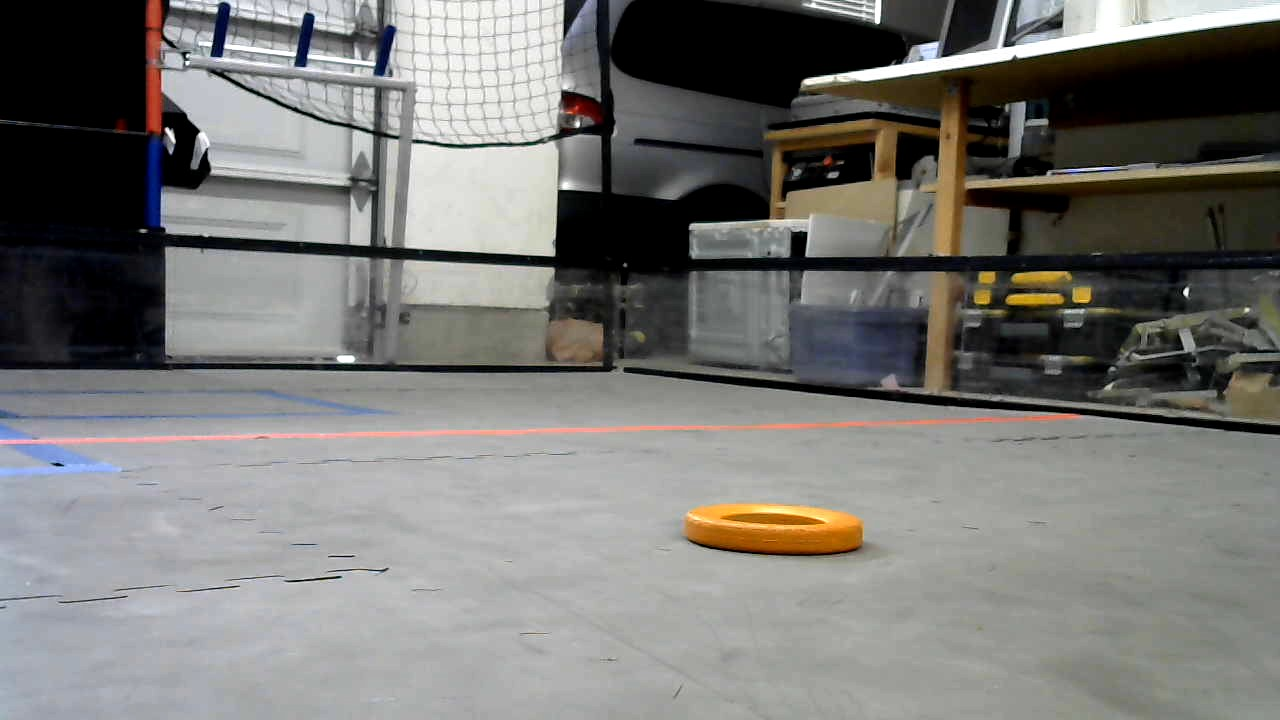OneStack: (687, 503, 862, 549)
